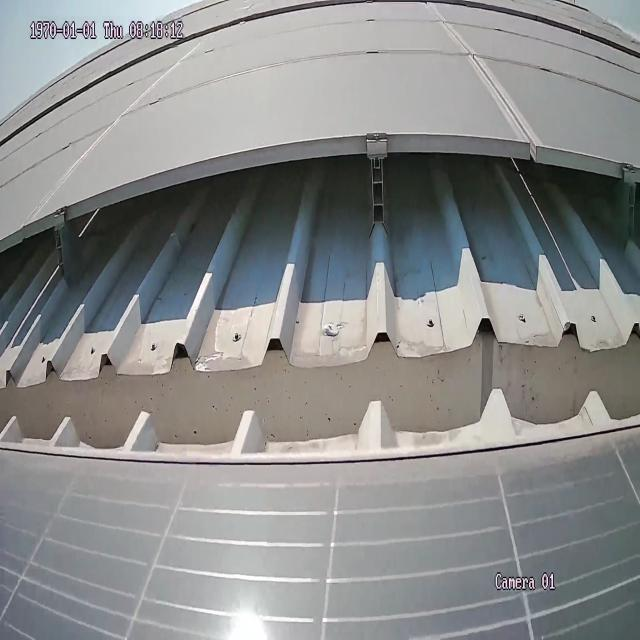interior panel: (19, 42, 196, 224), (426, 4, 539, 144)
outher panel: (0, 138, 640, 466)
